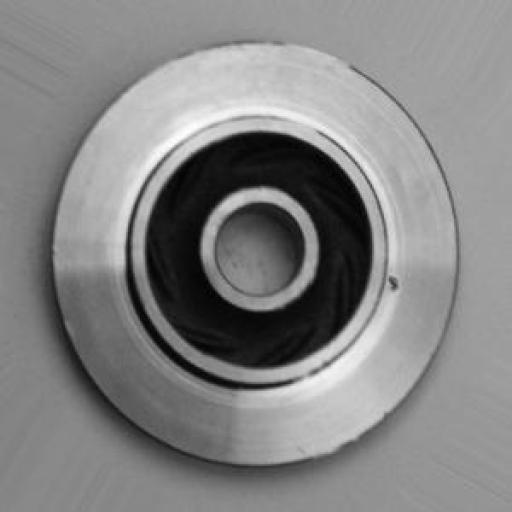defect: (384, 254, 410, 316)
